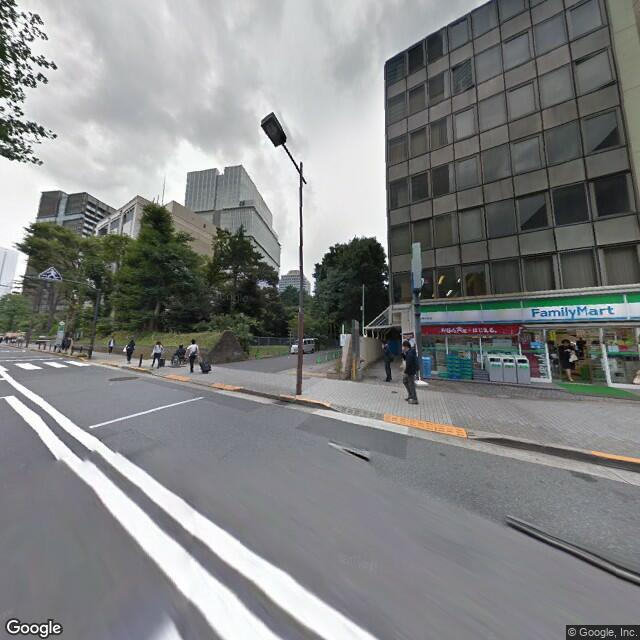family_mart: (419, 288, 639, 327), (528, 300, 618, 322)
